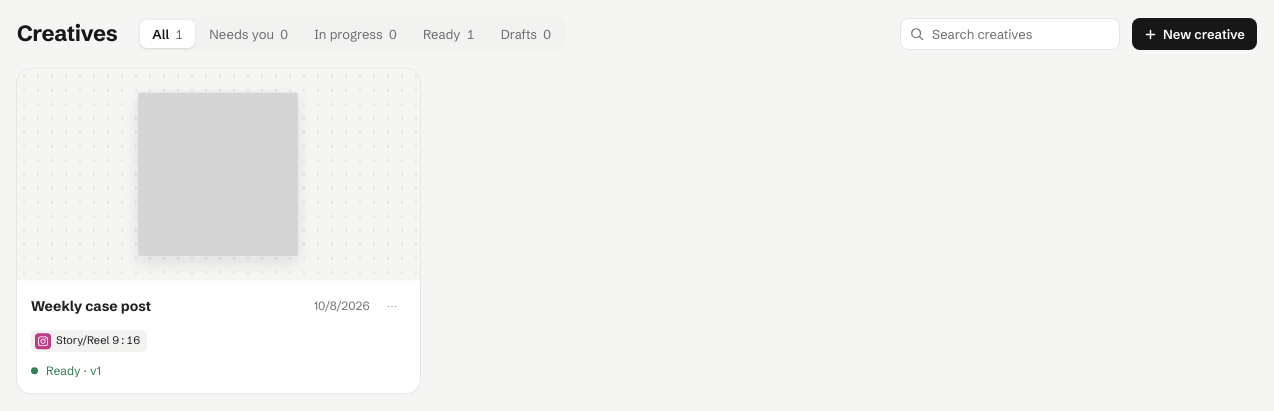
it: ProjectCreatives filters › explains an empty filter and shows everything again
The image size is (1274, 411).
Expected: the link "Weekly case post" is shown, [31, 297, 151, 315]
Click the radio button labelled "Drafts 0". click: (526, 34)
box: [489, 20, 563, 48]
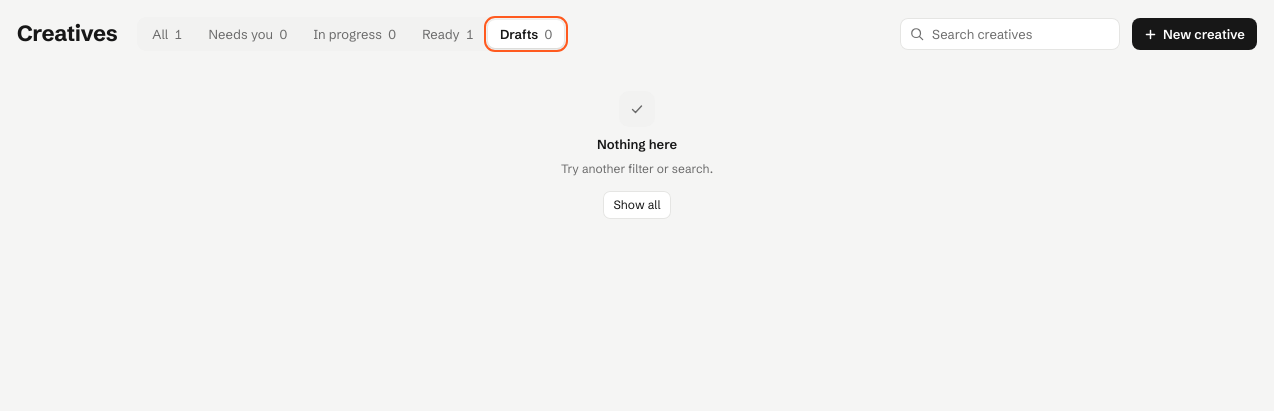
Result: the text "Nothing here" is shown at [597, 135, 677, 154]
Click the button "Show all". click: (637, 205)
box: [604, 191, 671, 219]
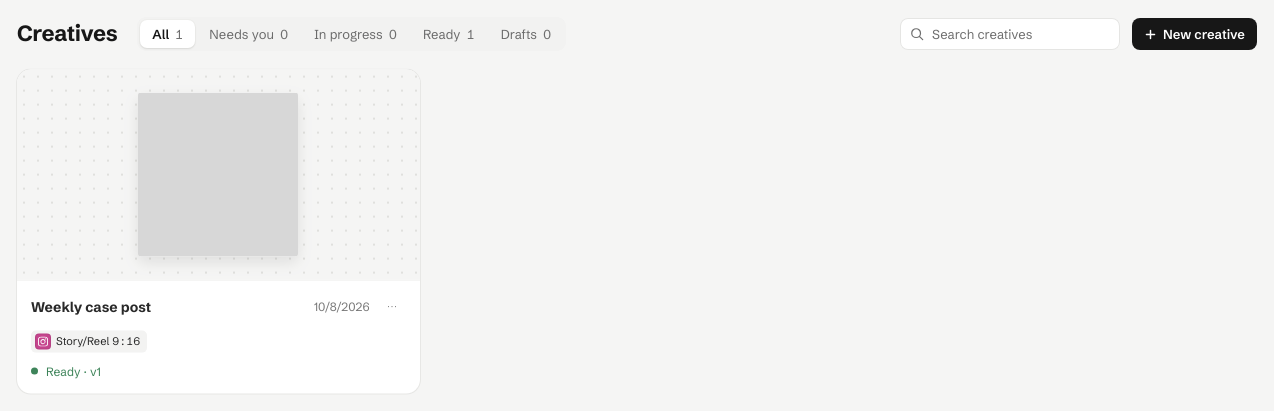
Result: the link "Weekly case post" is shown at [31, 297, 151, 315]
